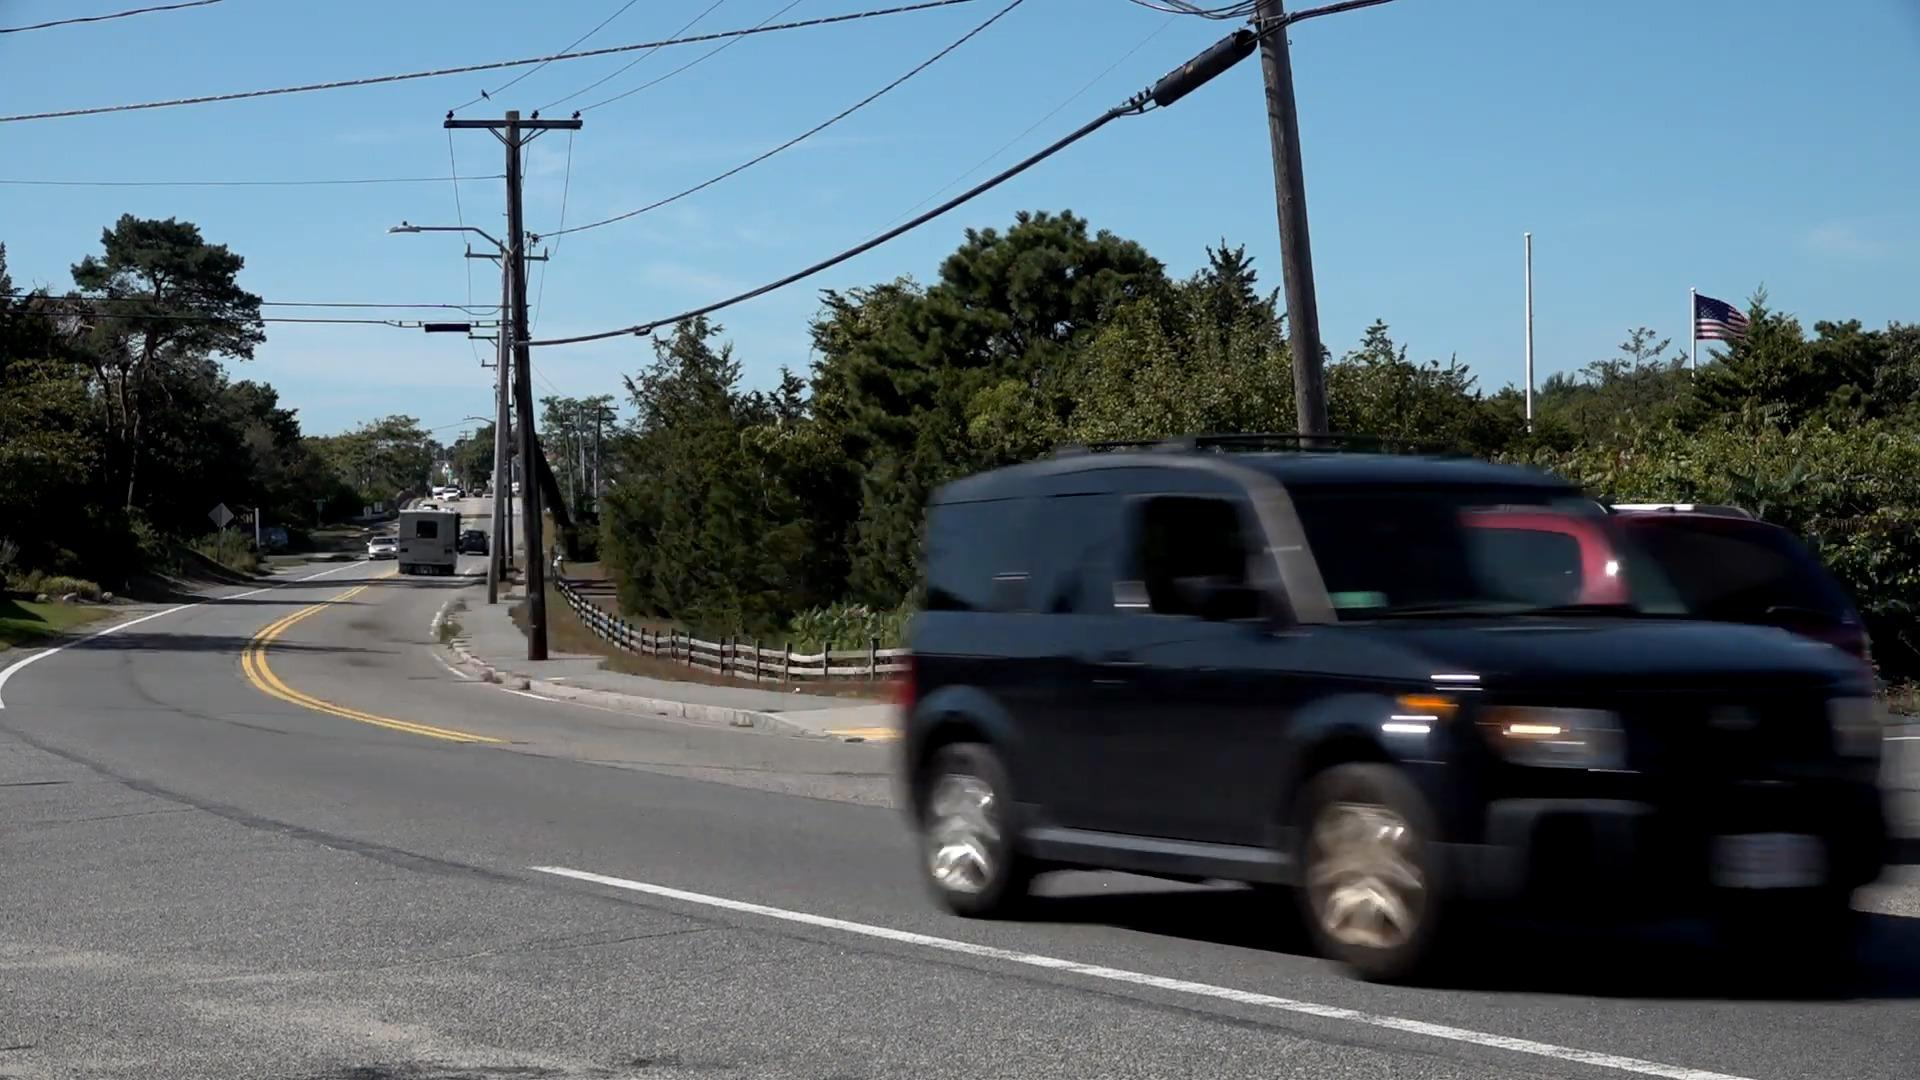suv: (904, 460, 1891, 984)
